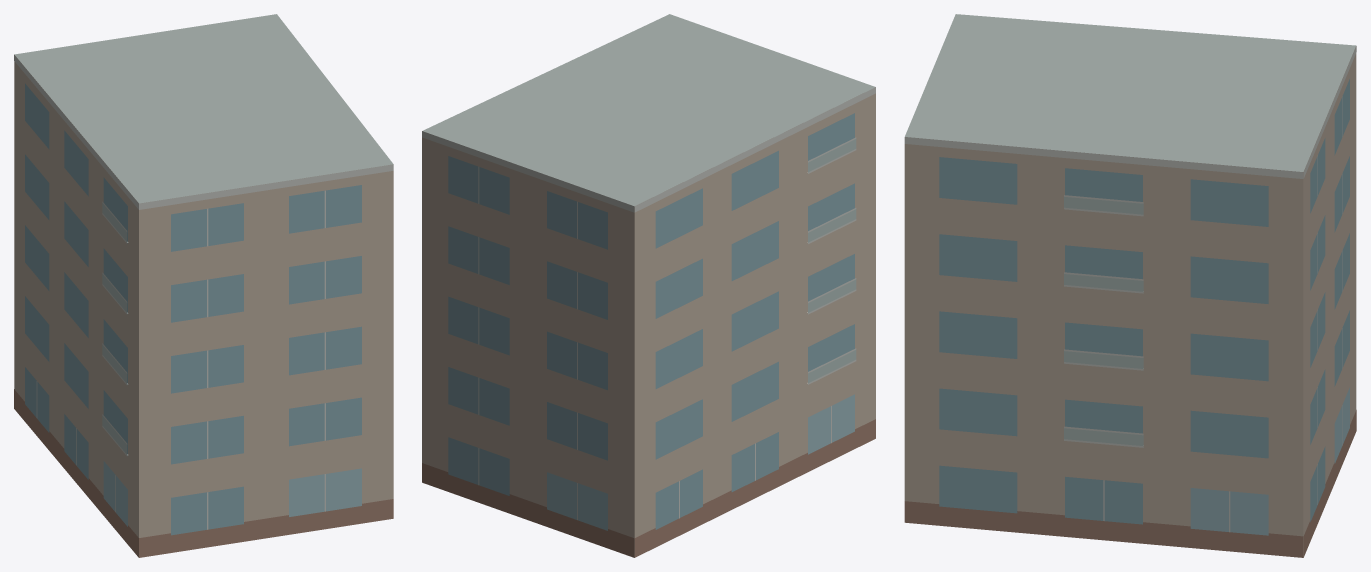
The model's file is survey-upis-33036902.glb.
The picture shows the model from 3 angles, left to right: view 1: azimuth 30°, elevation 25°; view 2: azimuth 150°, elevation 25°; view 3: azimuth 270°, elevation 25°; orthographic projection. The views are drawn at different scales.
Visible parts, largest first — view 1: survey-upis-33036902.tmp; view 2: survey-upis-33036902.tmp; view 3: survey-upis-33036902.tmp.
Boxes of the visible parts, x1,y1,x2,y2 form: survey-upis-33036902.tmp: [14, 14, 393, 557]; survey-upis-33036902.tmp: [422, 14, 875, 557]; survey-upis-33036902.tmp: [904, 14, 1356, 557].
Bounding box in the file's own units: 11.79 × 13.4 × 14.23.
